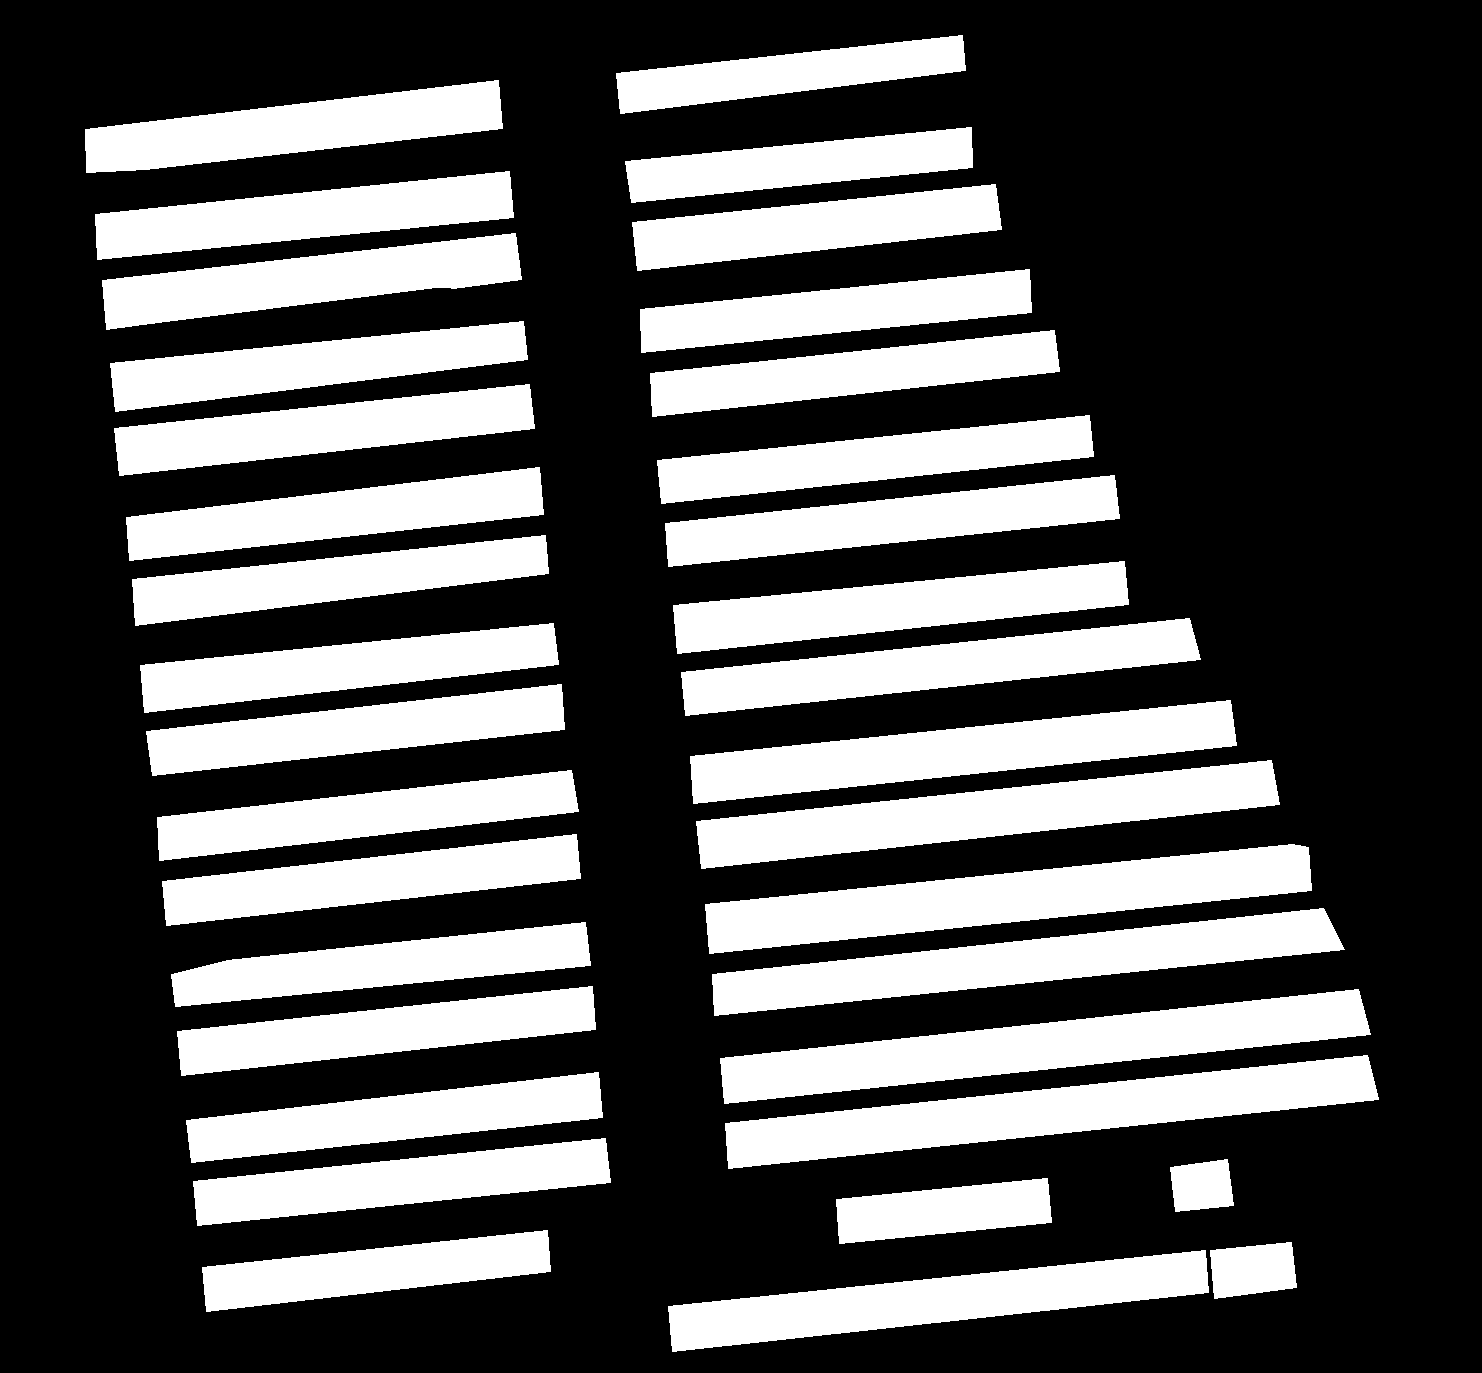parkingspot: (719, 988, 1370, 1103), (724, 1056, 1377, 1168), (711, 908, 1344, 1016), (704, 844, 1312, 954), (695, 759, 1279, 868), (689, 699, 1235, 803), (667, 1249, 1208, 1351), (682, 618, 1201, 715), (673, 561, 1128, 653), (665, 475, 1119, 566), (102, 234, 522, 329), (127, 467, 543, 560), (146, 684, 564, 776), (161, 834, 580, 925), (657, 416, 1093, 503), (85, 80, 502, 172), (114, 385, 534, 475), (110, 321, 527, 412), (157, 770, 578, 859), (176, 986, 595, 1075), (94, 170, 513, 259), (139, 623, 558, 712), (185, 1072, 602, 1161), (132, 536, 547, 625), (192, 1137, 611, 1225), (170, 921, 590, 1007), (651, 330, 1059, 416), (639, 268, 1031, 352), (633, 185, 1000, 270), (201, 1228, 550, 1311), (616, 35, 966, 114), (625, 126, 972, 203), (835, 1178, 1051, 1243), (1210, 1241, 1296, 1298), (1170, 1159, 1233, 1210)
